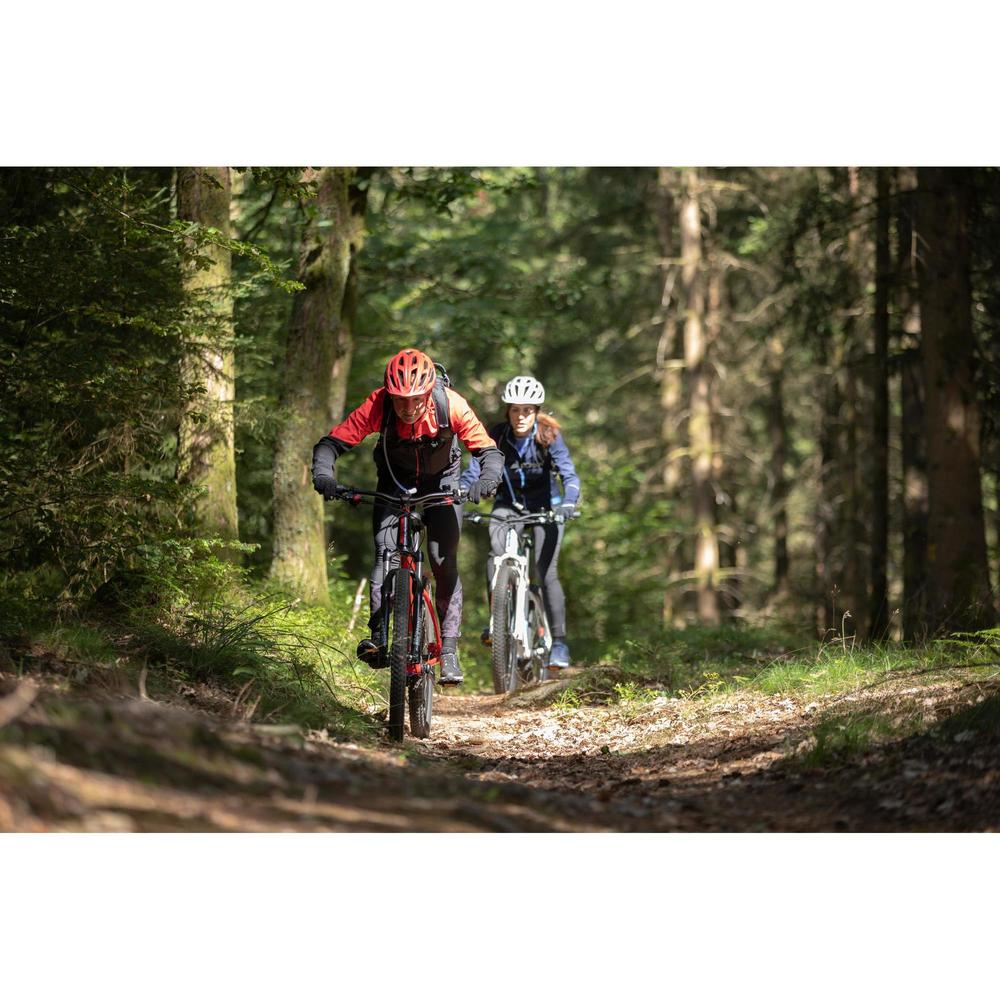MountainBike: (320, 476, 479, 752), (462, 502, 582, 706)
